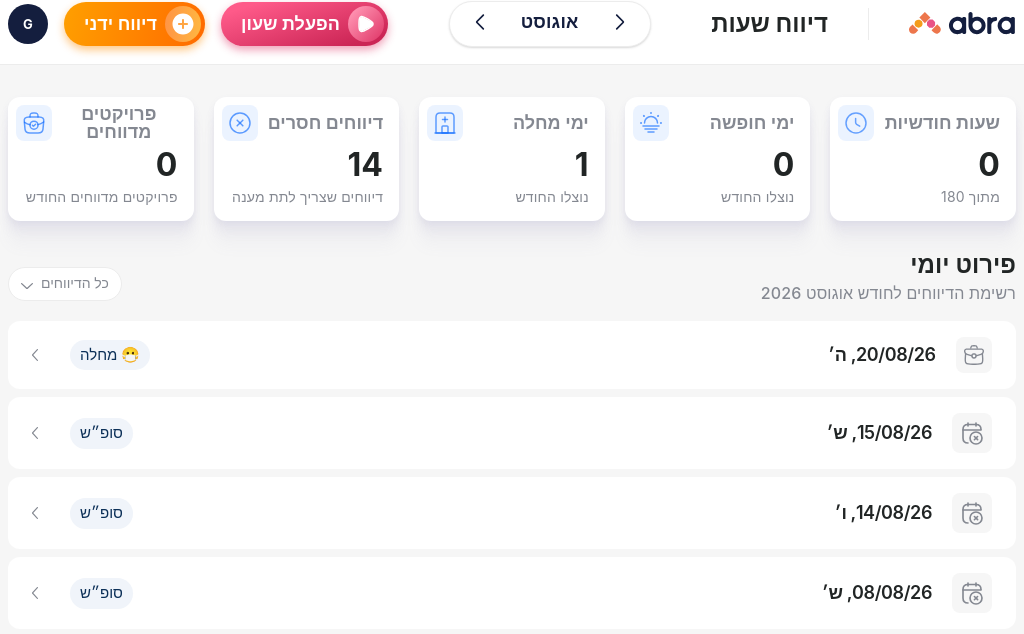
Scenario: Reports home shell › opens a blank absence form from the general דיווח ידני button even when today already has a saved absence
Click the button "דיווח ידני". click: (134, 24)
box: [64,2,205,46]
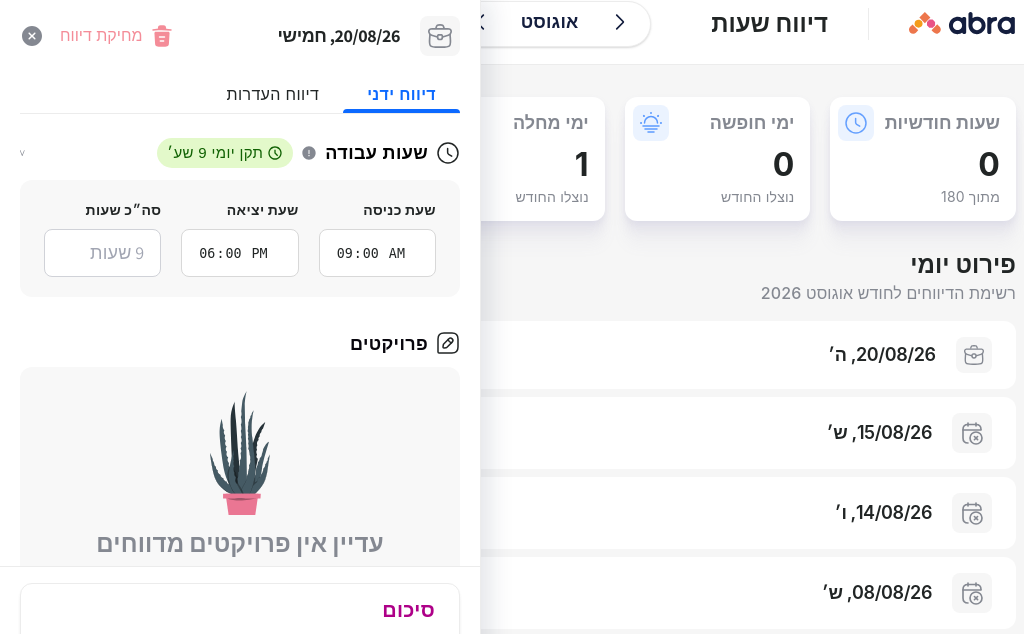
Click the tab "דיווח העדרות". click: (273, 94)
box: [203,76,343,113]
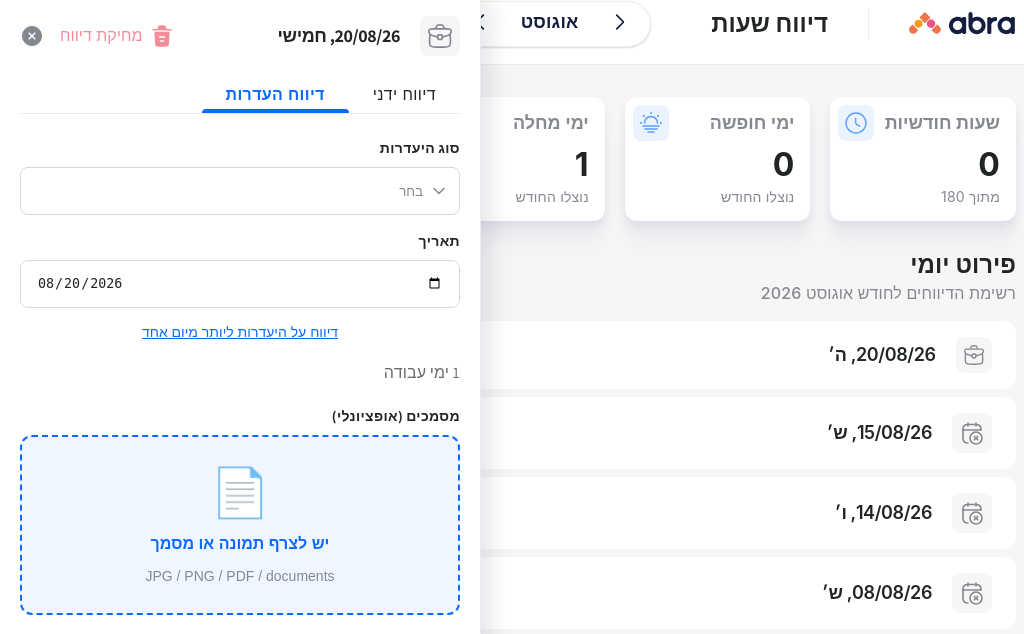
Expected: the dropdown labelled "סוג היעדרות" shows "בחר", [20,167,460,215]
Expected: the button "דיווח על היעדרות ליותר מיום אחד" is shown, [20,324,460,340]
